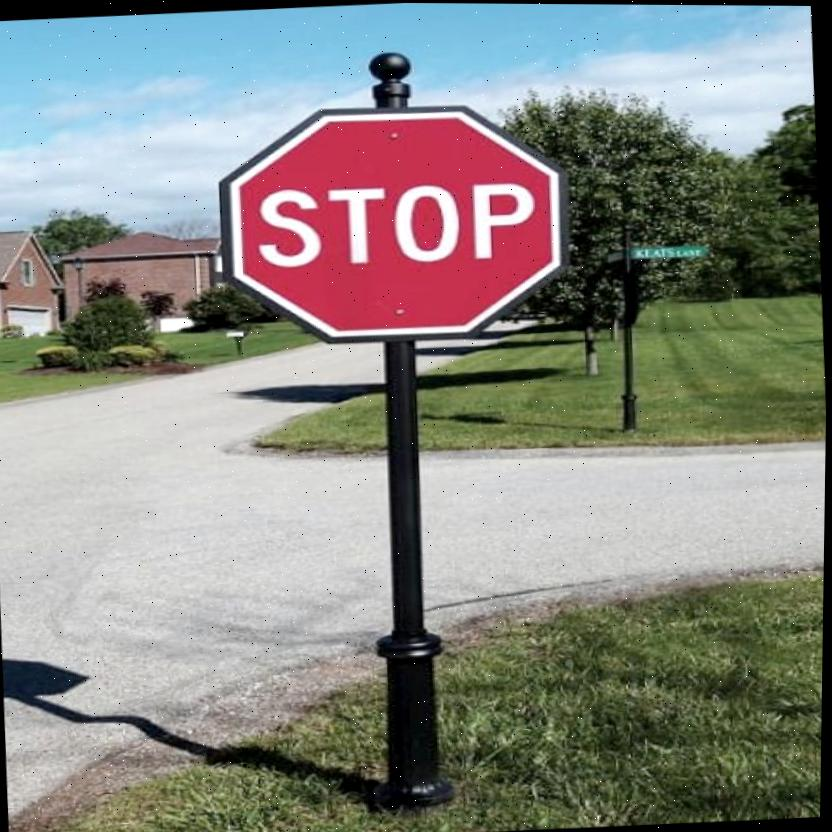Pole: (374, 335, 435, 803), (615, 272, 650, 440)
Sign: (219, 99, 573, 337)
